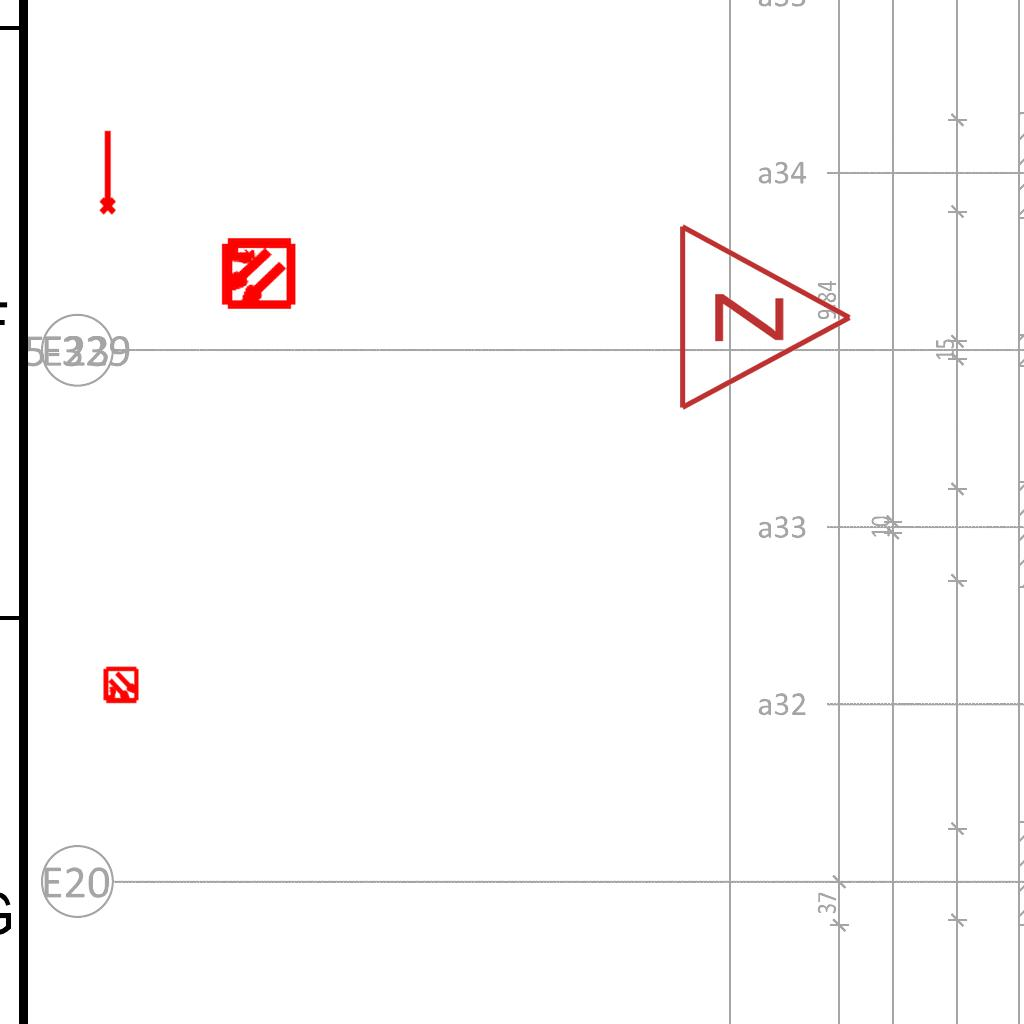ASR_Ansaugoeffnung: (95, 128, 118, 216)
OT_Multisensormelder_(Kombination_RMO_WMD): (200, 217, 313, 330), (93, 658, 149, 714)
Zimmersignalleuchte: (665, 217, 865, 413)
